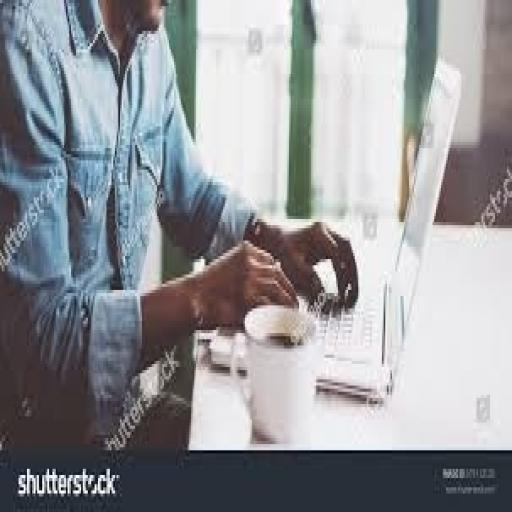using_laptop: (311, 52, 463, 401)
